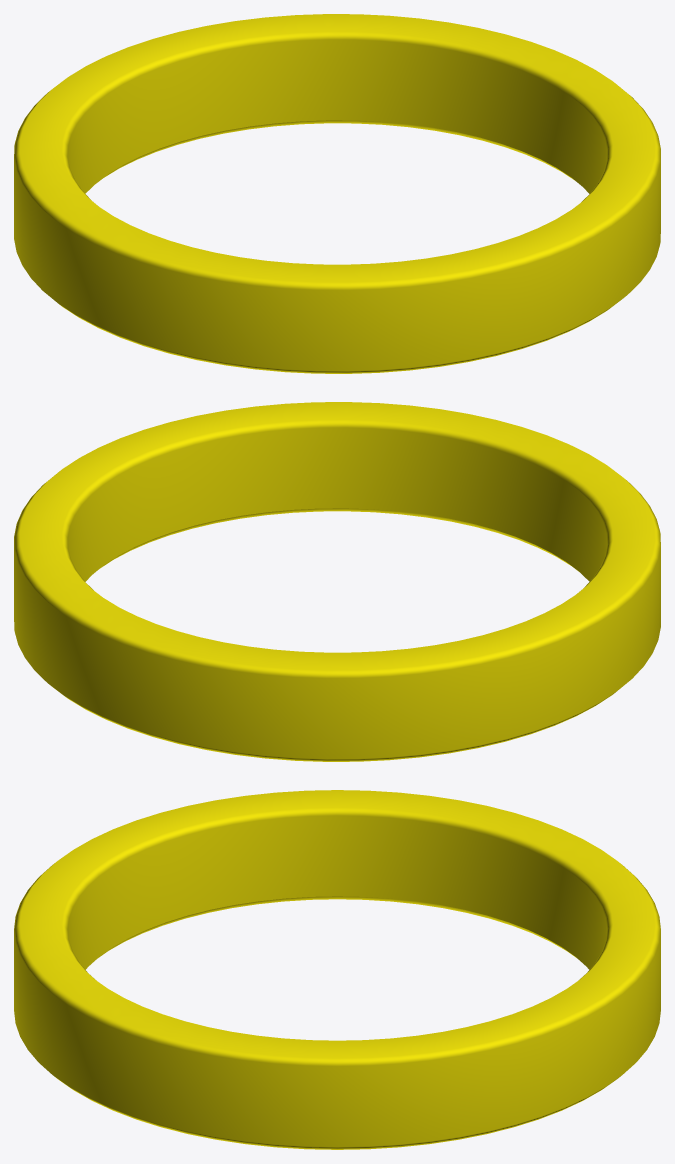
3 renders of one model, top to bottom at view 1: azimuth 30°, elevation 25°; view 2: azimuth 150°, elevation 25°; view 3: azimuth 270°, elevation 25°, orthographic.
Visible parts, largest first — view 1: seal_body; view 2: seal_body; view 3: seal_body.
Part boxes in pixels (x1,y1,x2,y2): seal_body: (14,14,660,373); seal_body: (14,402,660,761); seal_body: (14,790,660,1149).
Size of the model in its own units: 0.048 by 0.0075 by 0.048.
